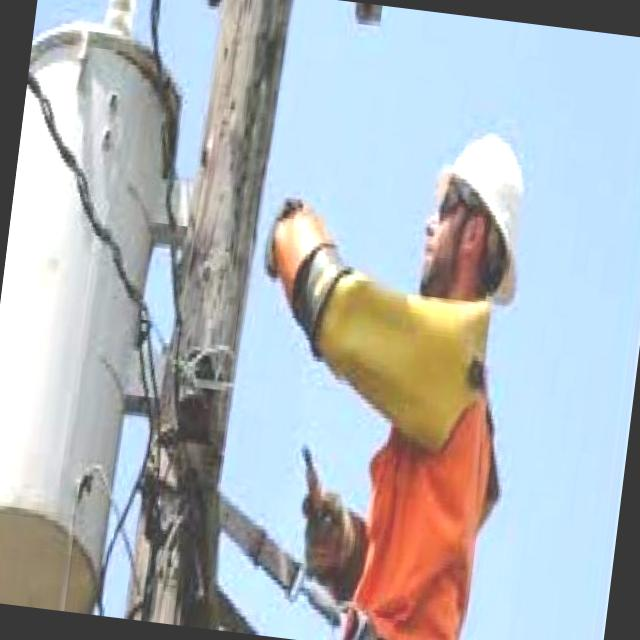gloves: (240, 168, 350, 359), (284, 442, 367, 588)
helmet: (420, 125, 538, 310)
vest: (340, 268, 542, 640)
